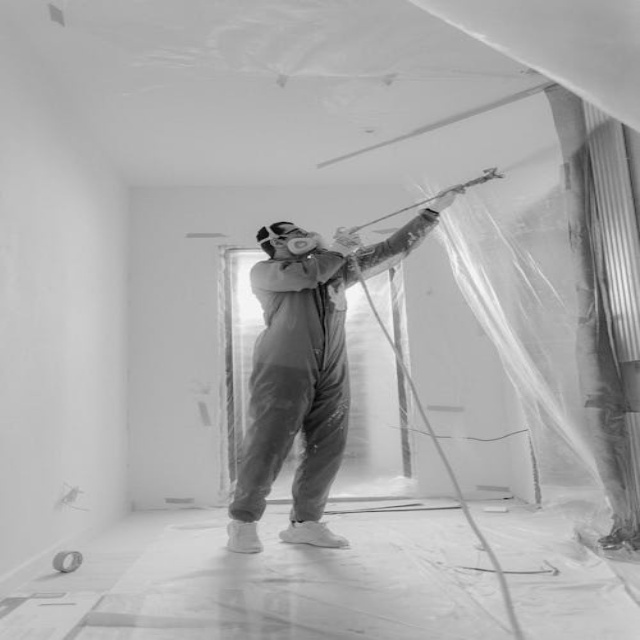Guantes: (430, 185, 466, 213), (332, 226, 364, 251)
Mascara: (288, 229, 329, 257)
